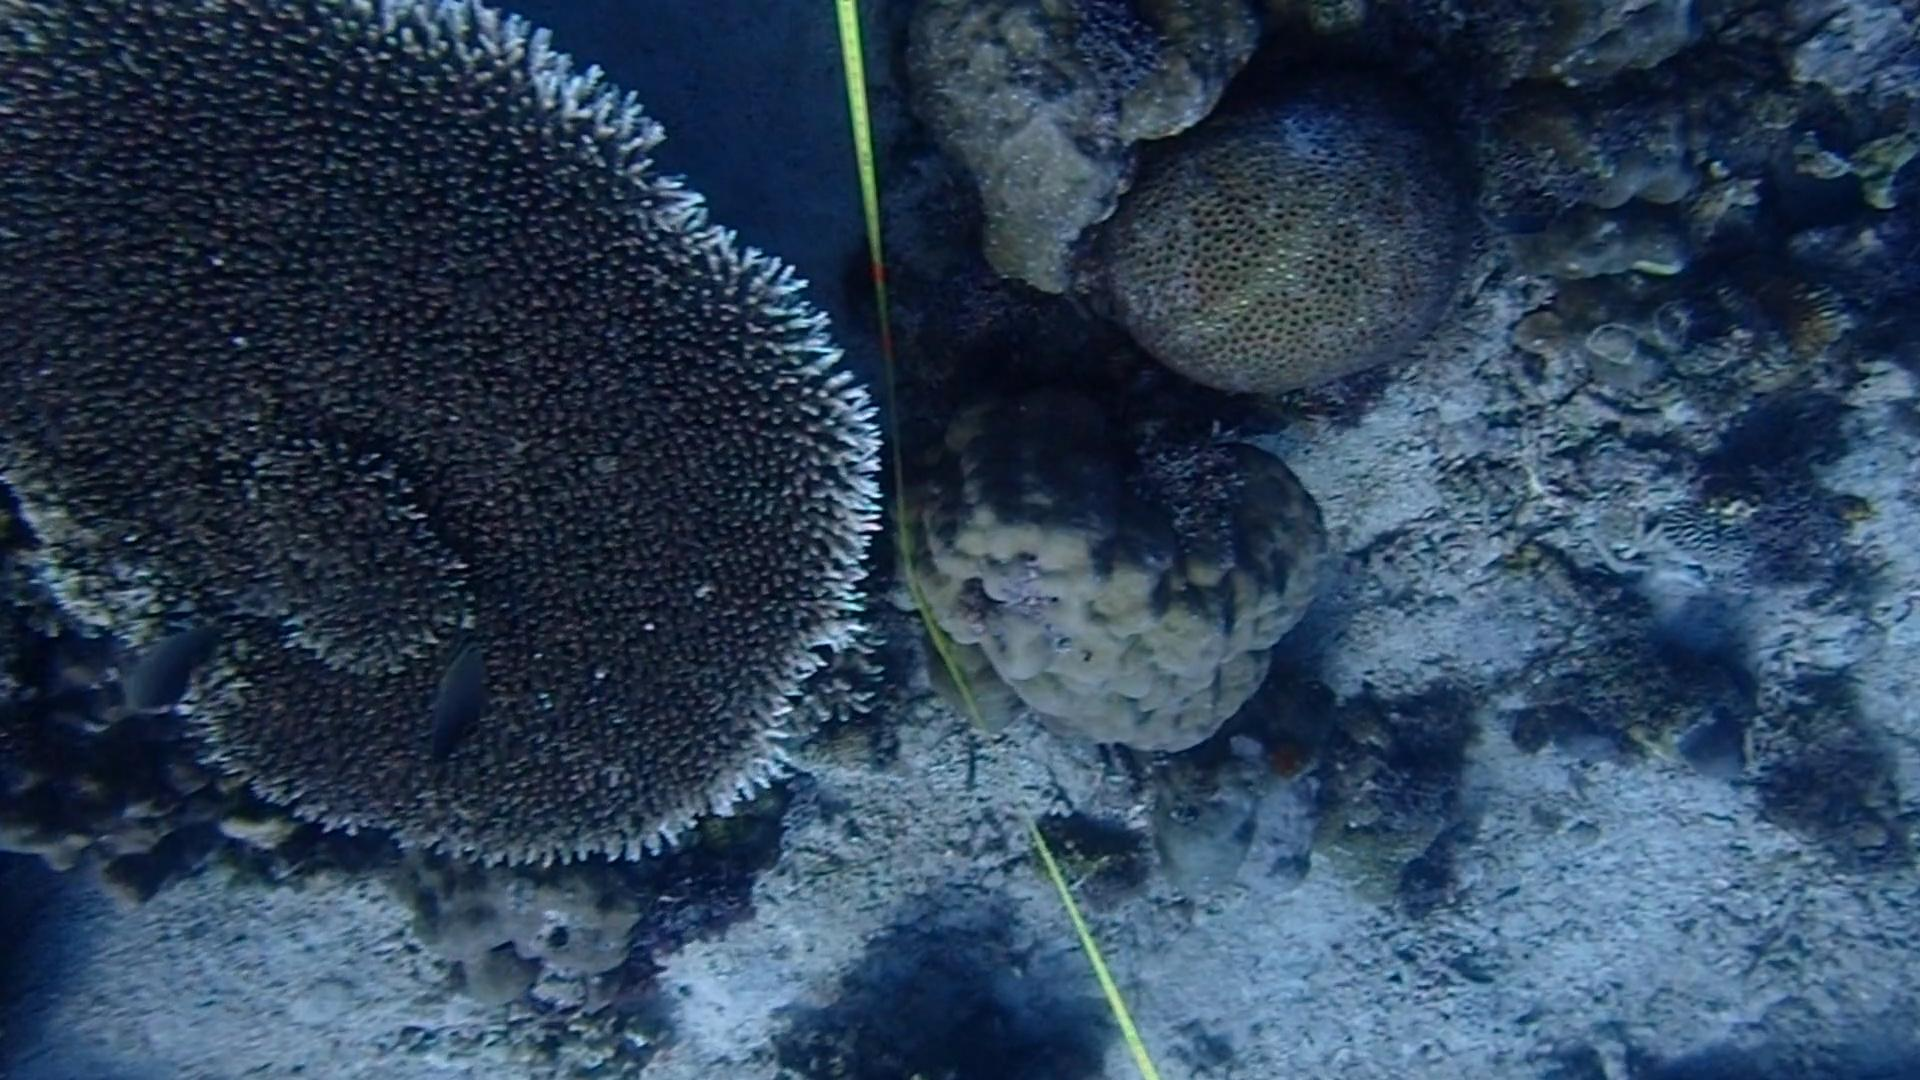Dark Blue Dory: (102, 620, 241, 723), (413, 624, 492, 785)
Light Fish: (1474, 206, 1561, 248)
